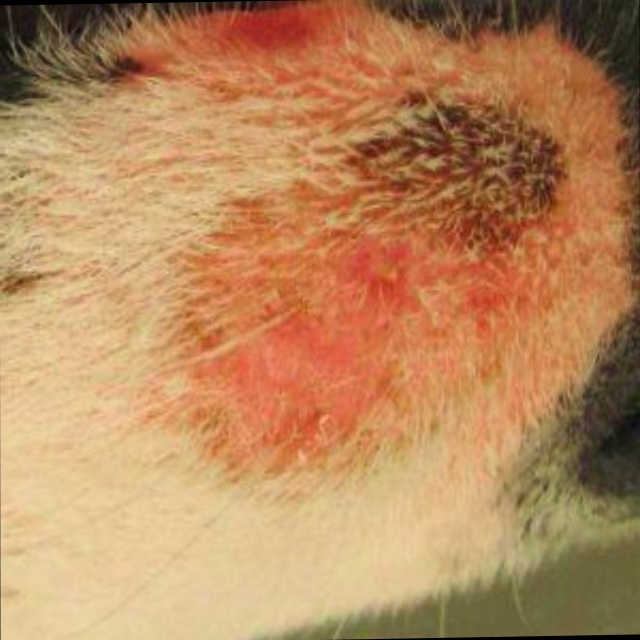ringworm: (220, 230, 527, 418)
